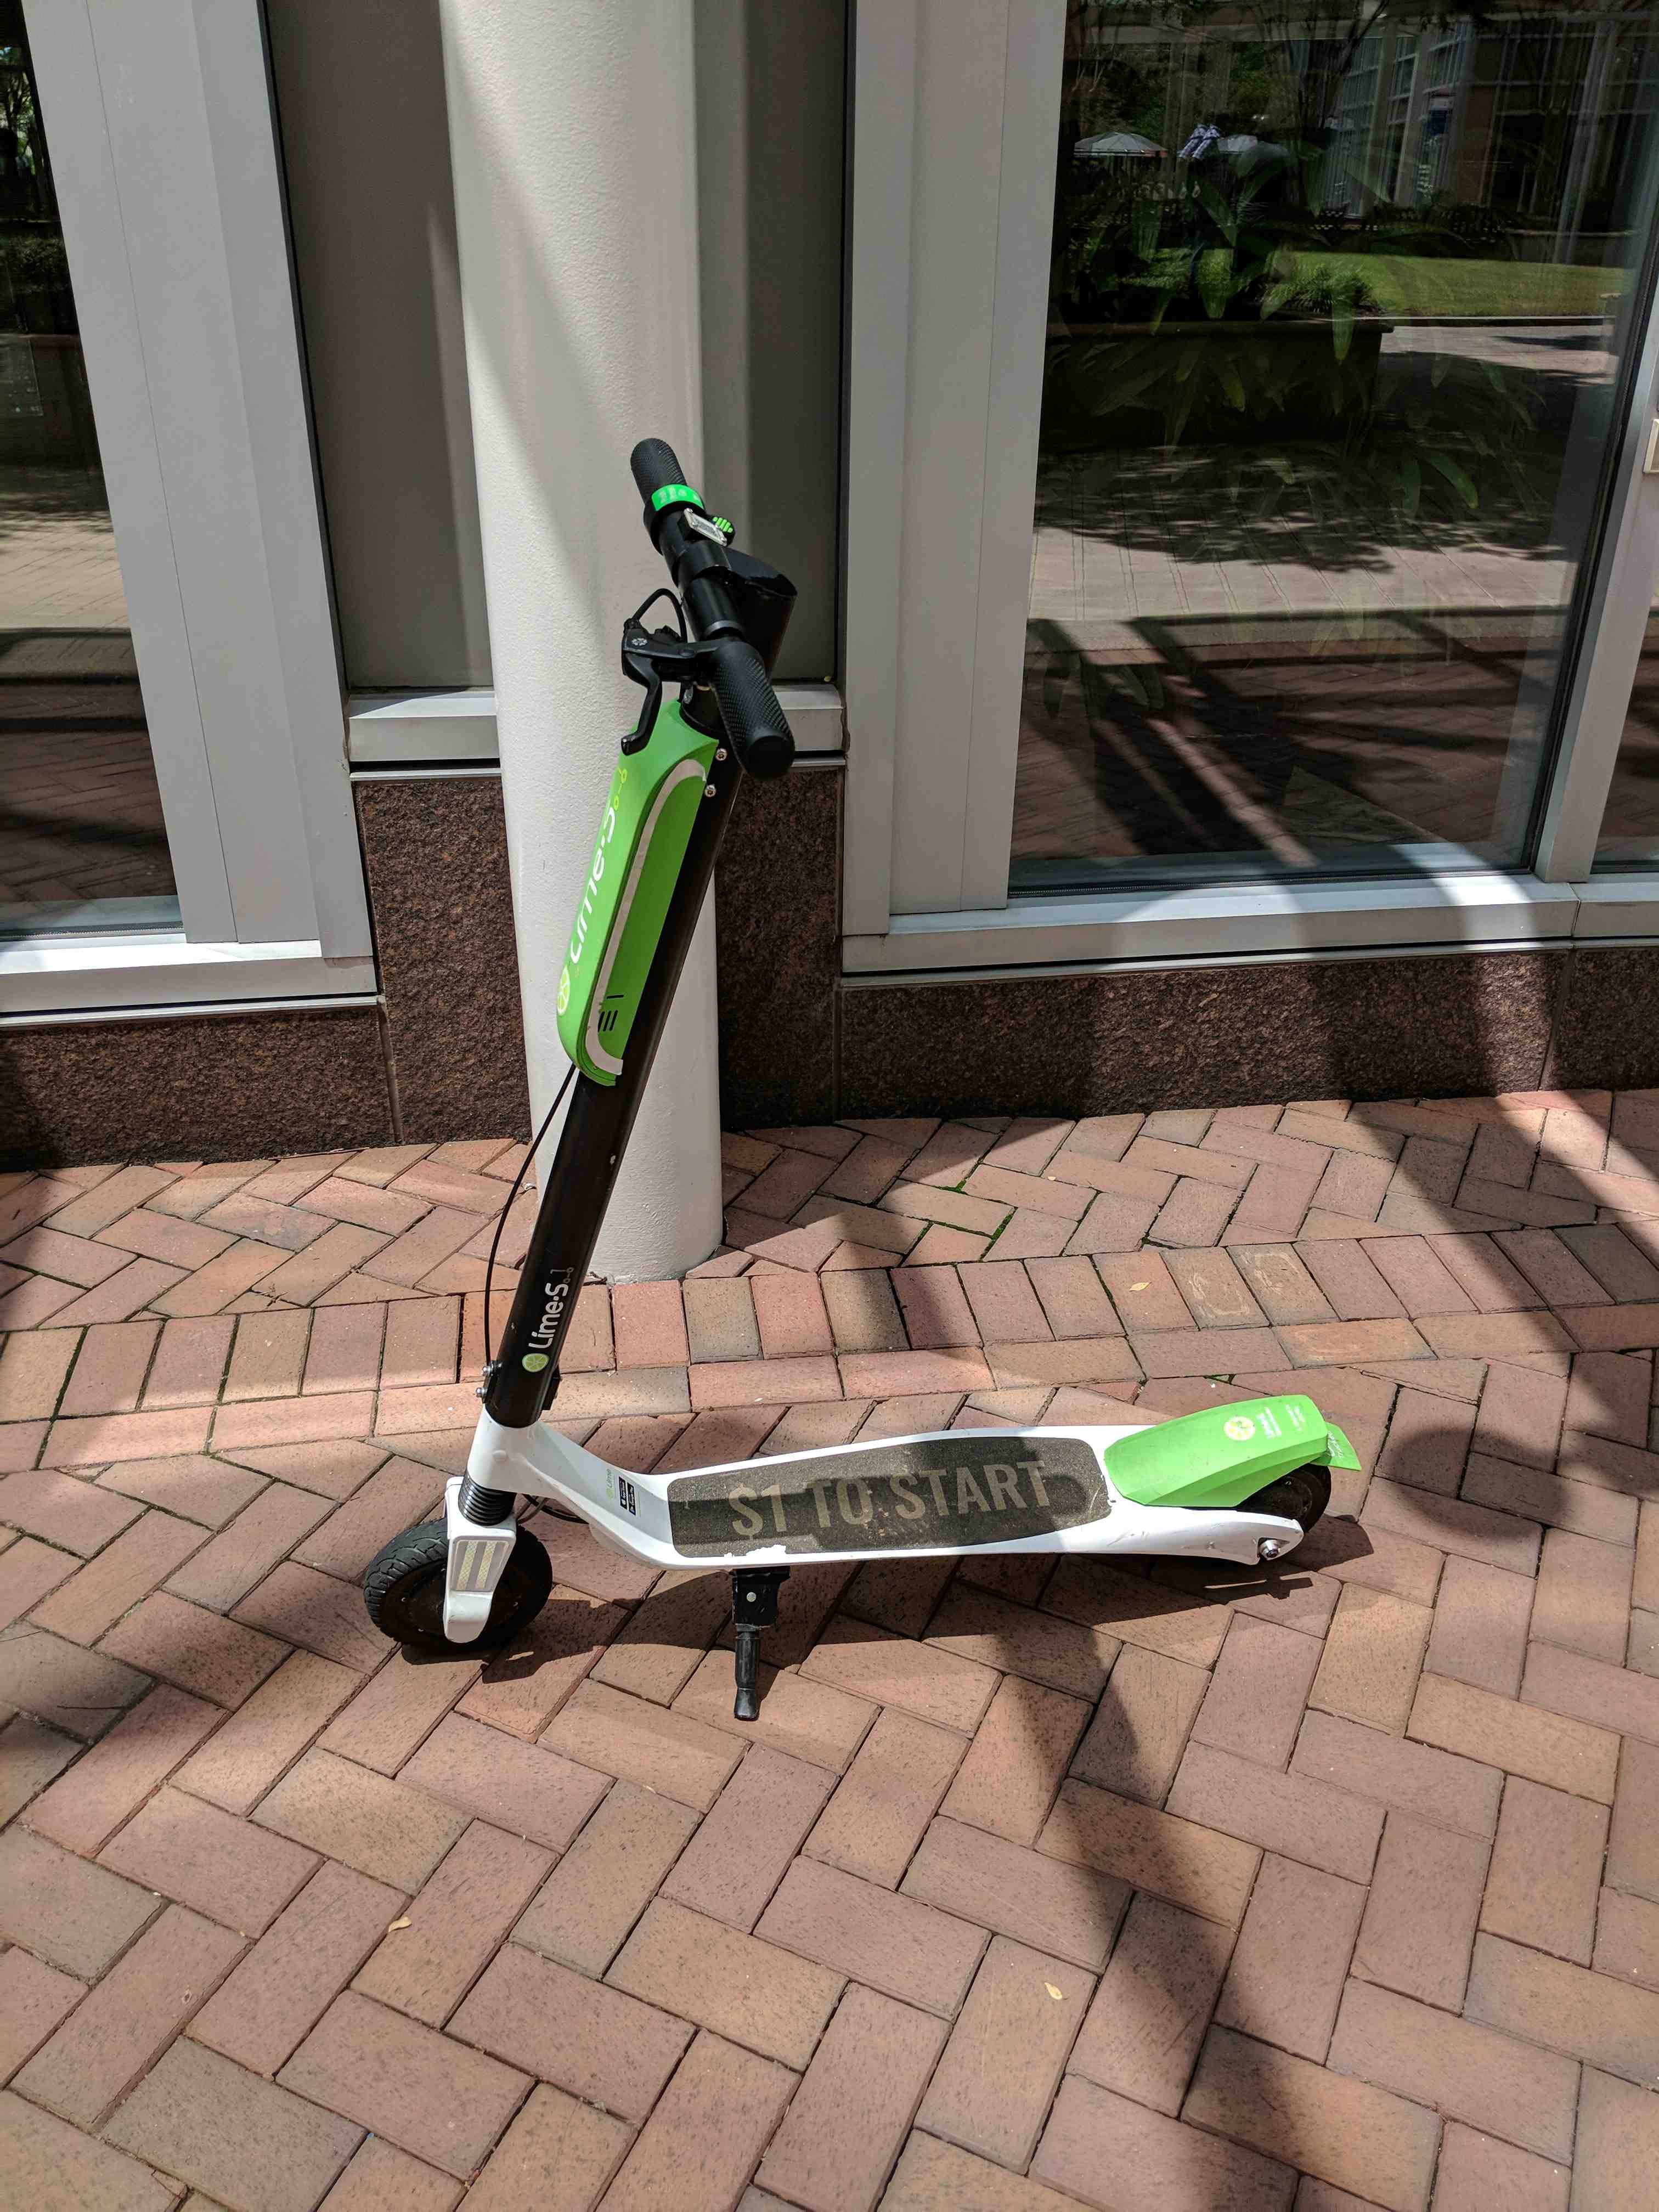scooter: (362, 418, 1406, 1676)
